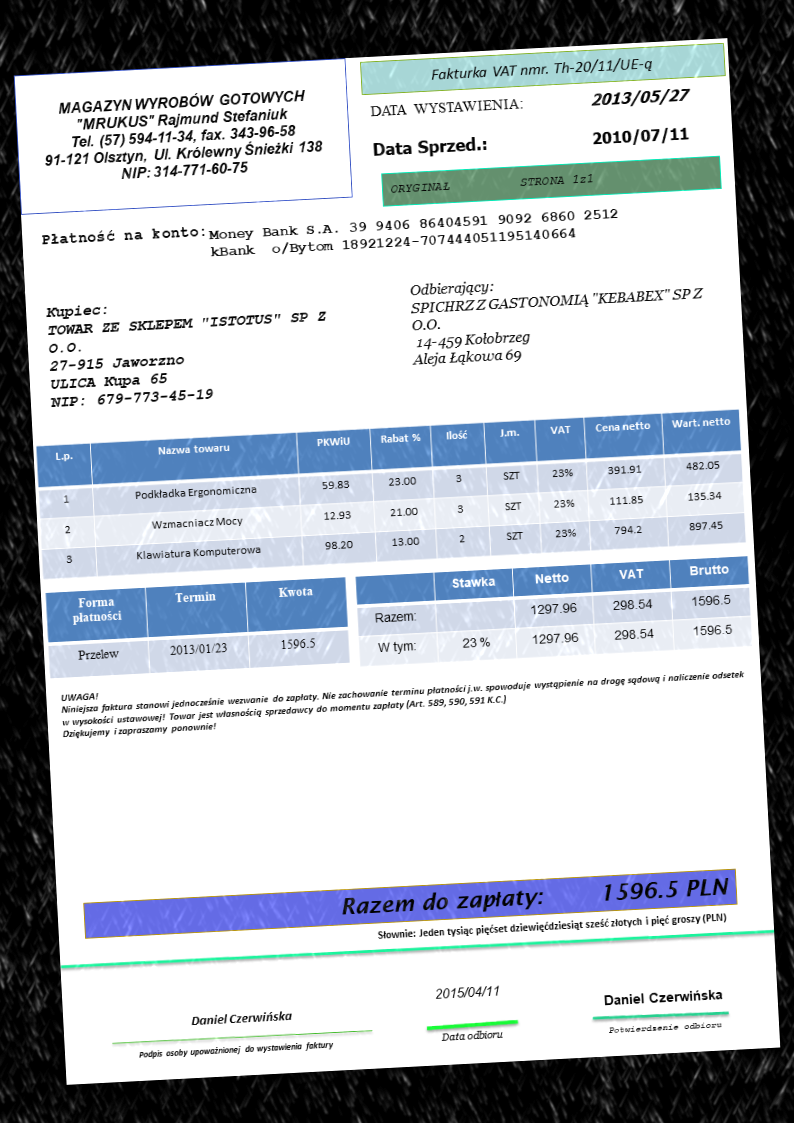Table: (34, 407, 751, 584), (354, 553, 754, 671), (44, 574, 352, 680)
TextBox: (55, 655, 748, 745), (42, 291, 334, 411), (406, 266, 709, 370), (37, 85, 331, 189), (207, 205, 622, 259), (335, 872, 733, 921), (373, 908, 730, 943), (426, 54, 656, 86), (389, 168, 597, 197), (135, 1037, 336, 1063), (367, 92, 526, 123), (36, 221, 210, 248), (369, 133, 490, 160), (600, 986, 725, 1011), (584, 84, 693, 110), (588, 123, 692, 150), (603, 1017, 725, 1036), (187, 1007, 294, 1027), (431, 982, 501, 1001), (439, 1028, 506, 1043)
